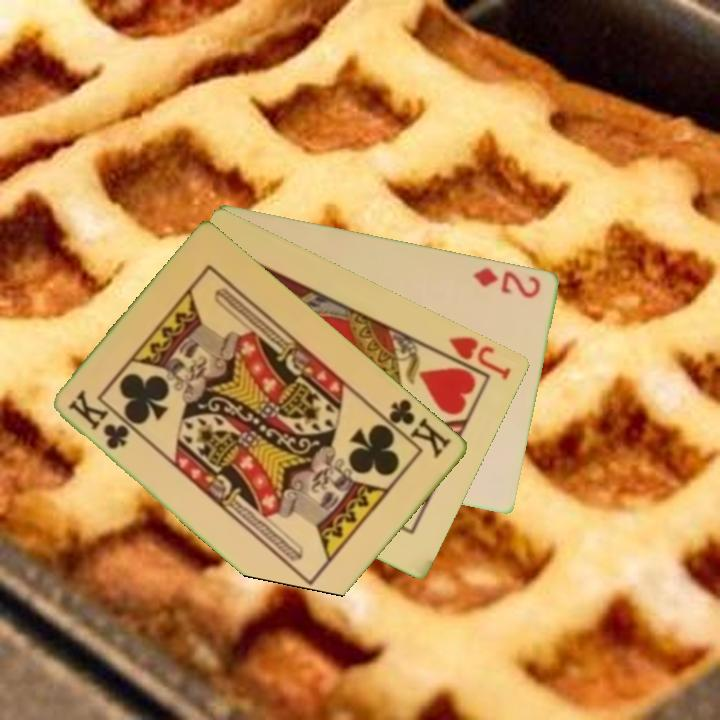2d: (470, 263, 544, 301)
Jh: (433, 332, 515, 383)
Kc: (377, 395, 455, 462), (65, 387, 133, 453)
